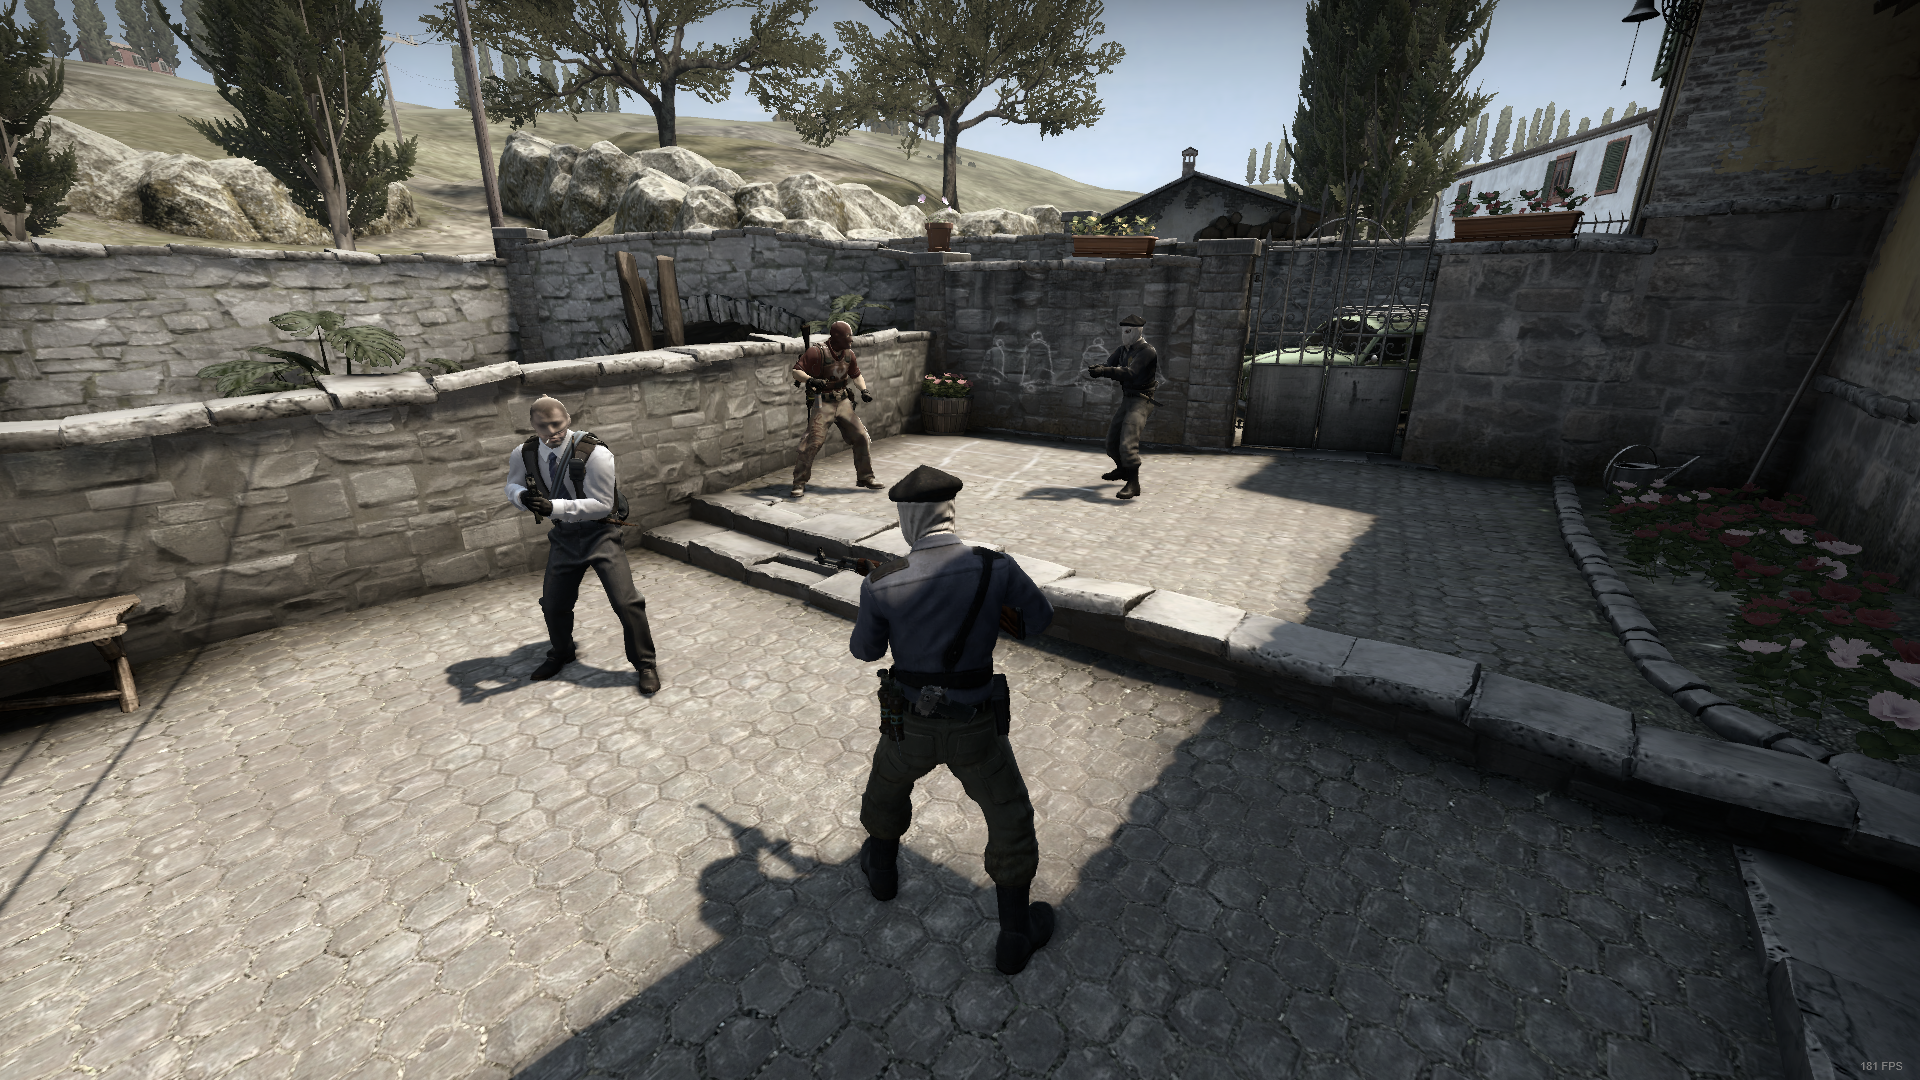t: (833, 463, 1084, 978), (1077, 316, 1167, 500)
